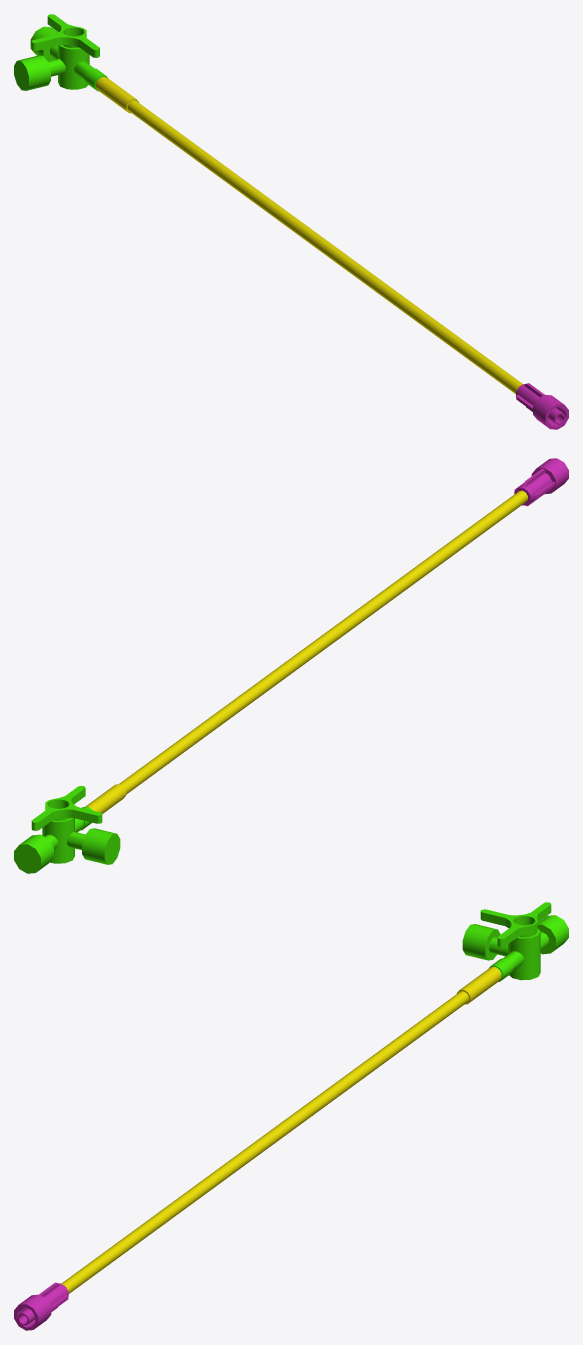
The model's file is Llave_LowPoly_v3.fbx.
3 renders of one model, top to bottom at view 1: azimuth 30°, elevation 25°; view 2: azimuth 150°, elevation 25°; view 3: azimuth 330°, elevation 25°, orthographic. The views are drawn at different scales.
Visible parts, largest first — view 1: pCylinder17, pCube6, polySurface9, polySurface18, pCylinder15; view 2: pCylinder17, polySurface9, pCube6, polySurface16, polySurface18, pCylinder15; view 3: pCylinder17, pCube6, polySurface9, pCylinder15, polySurface18, polySurface16.
Part boxes in pixels (<box>): pCylinder17: <box>96,77,522,394</box>; pCube6: <box>516,383,568,429</box>; polySurface9: <box>31,14,99,57</box>; polySurface18: <box>14,55,50,90</box>; pCylinder15: <box>58,45,89,89</box>; pCylinder17: <box>85,490,527,813</box>; polySurface9: <box>31,785,102,830</box>; pCube6: <box>514,458,568,506</box>; polySurface16: <box>14,834,53,873</box>; polySurface18: <box>82,828,120,864</box>; pCylinder15: <box>42,818,74,863</box>; pCylinder17: <box>61,967,501,1293</box>; pCube6: <box>14,1282,68,1330</box>; polySurface9: <box>480,902,551,947</box>; pCylinder15: <box>508,928,540,980</box>; polySurface18: <box>462,924,500,960</box>; polySurface16: <box>537,915,568,954</box>.
Size of the model in its own units: 2.4 by 1.78 by 32.49.
